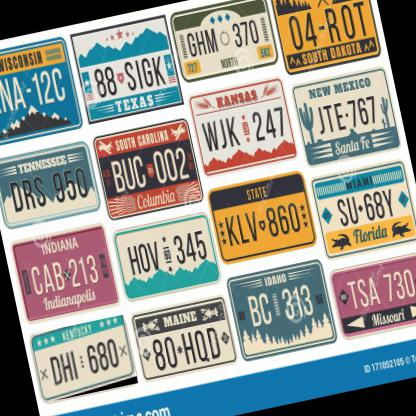Plates: (26, 314, 138, 404)
